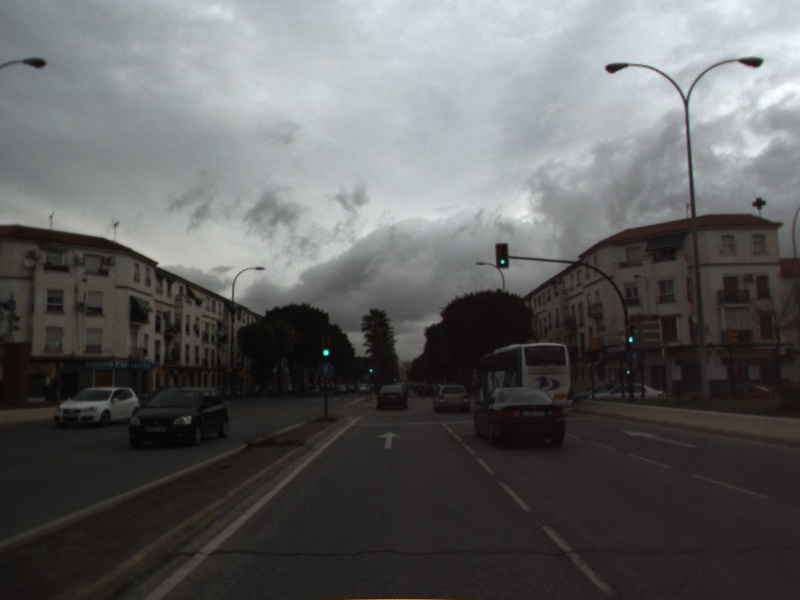STRAIGHT: (619, 427, 698, 450), (375, 429, 404, 451)
